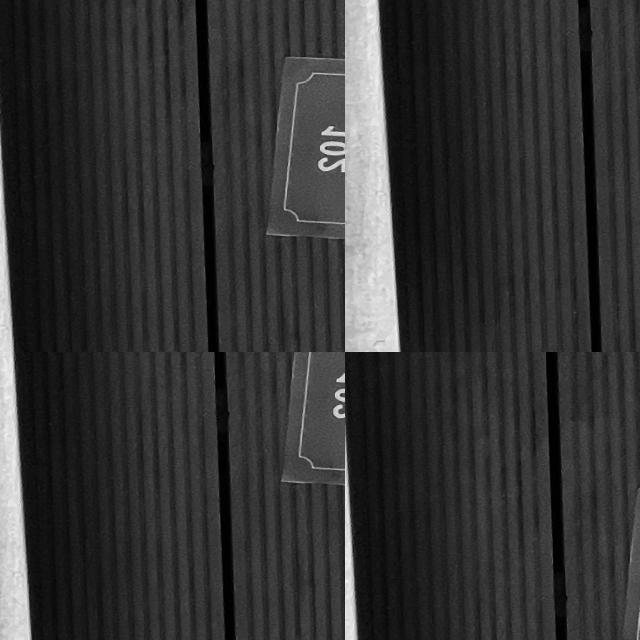Card: (0, 0, 330, 352), (345, 0, 622, 323), (594, 464, 640, 640), (0, 352, 106, 391)
